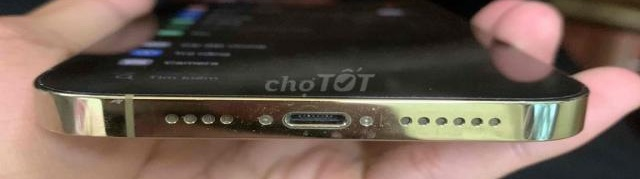scratch: (174, 83, 526, 154)
